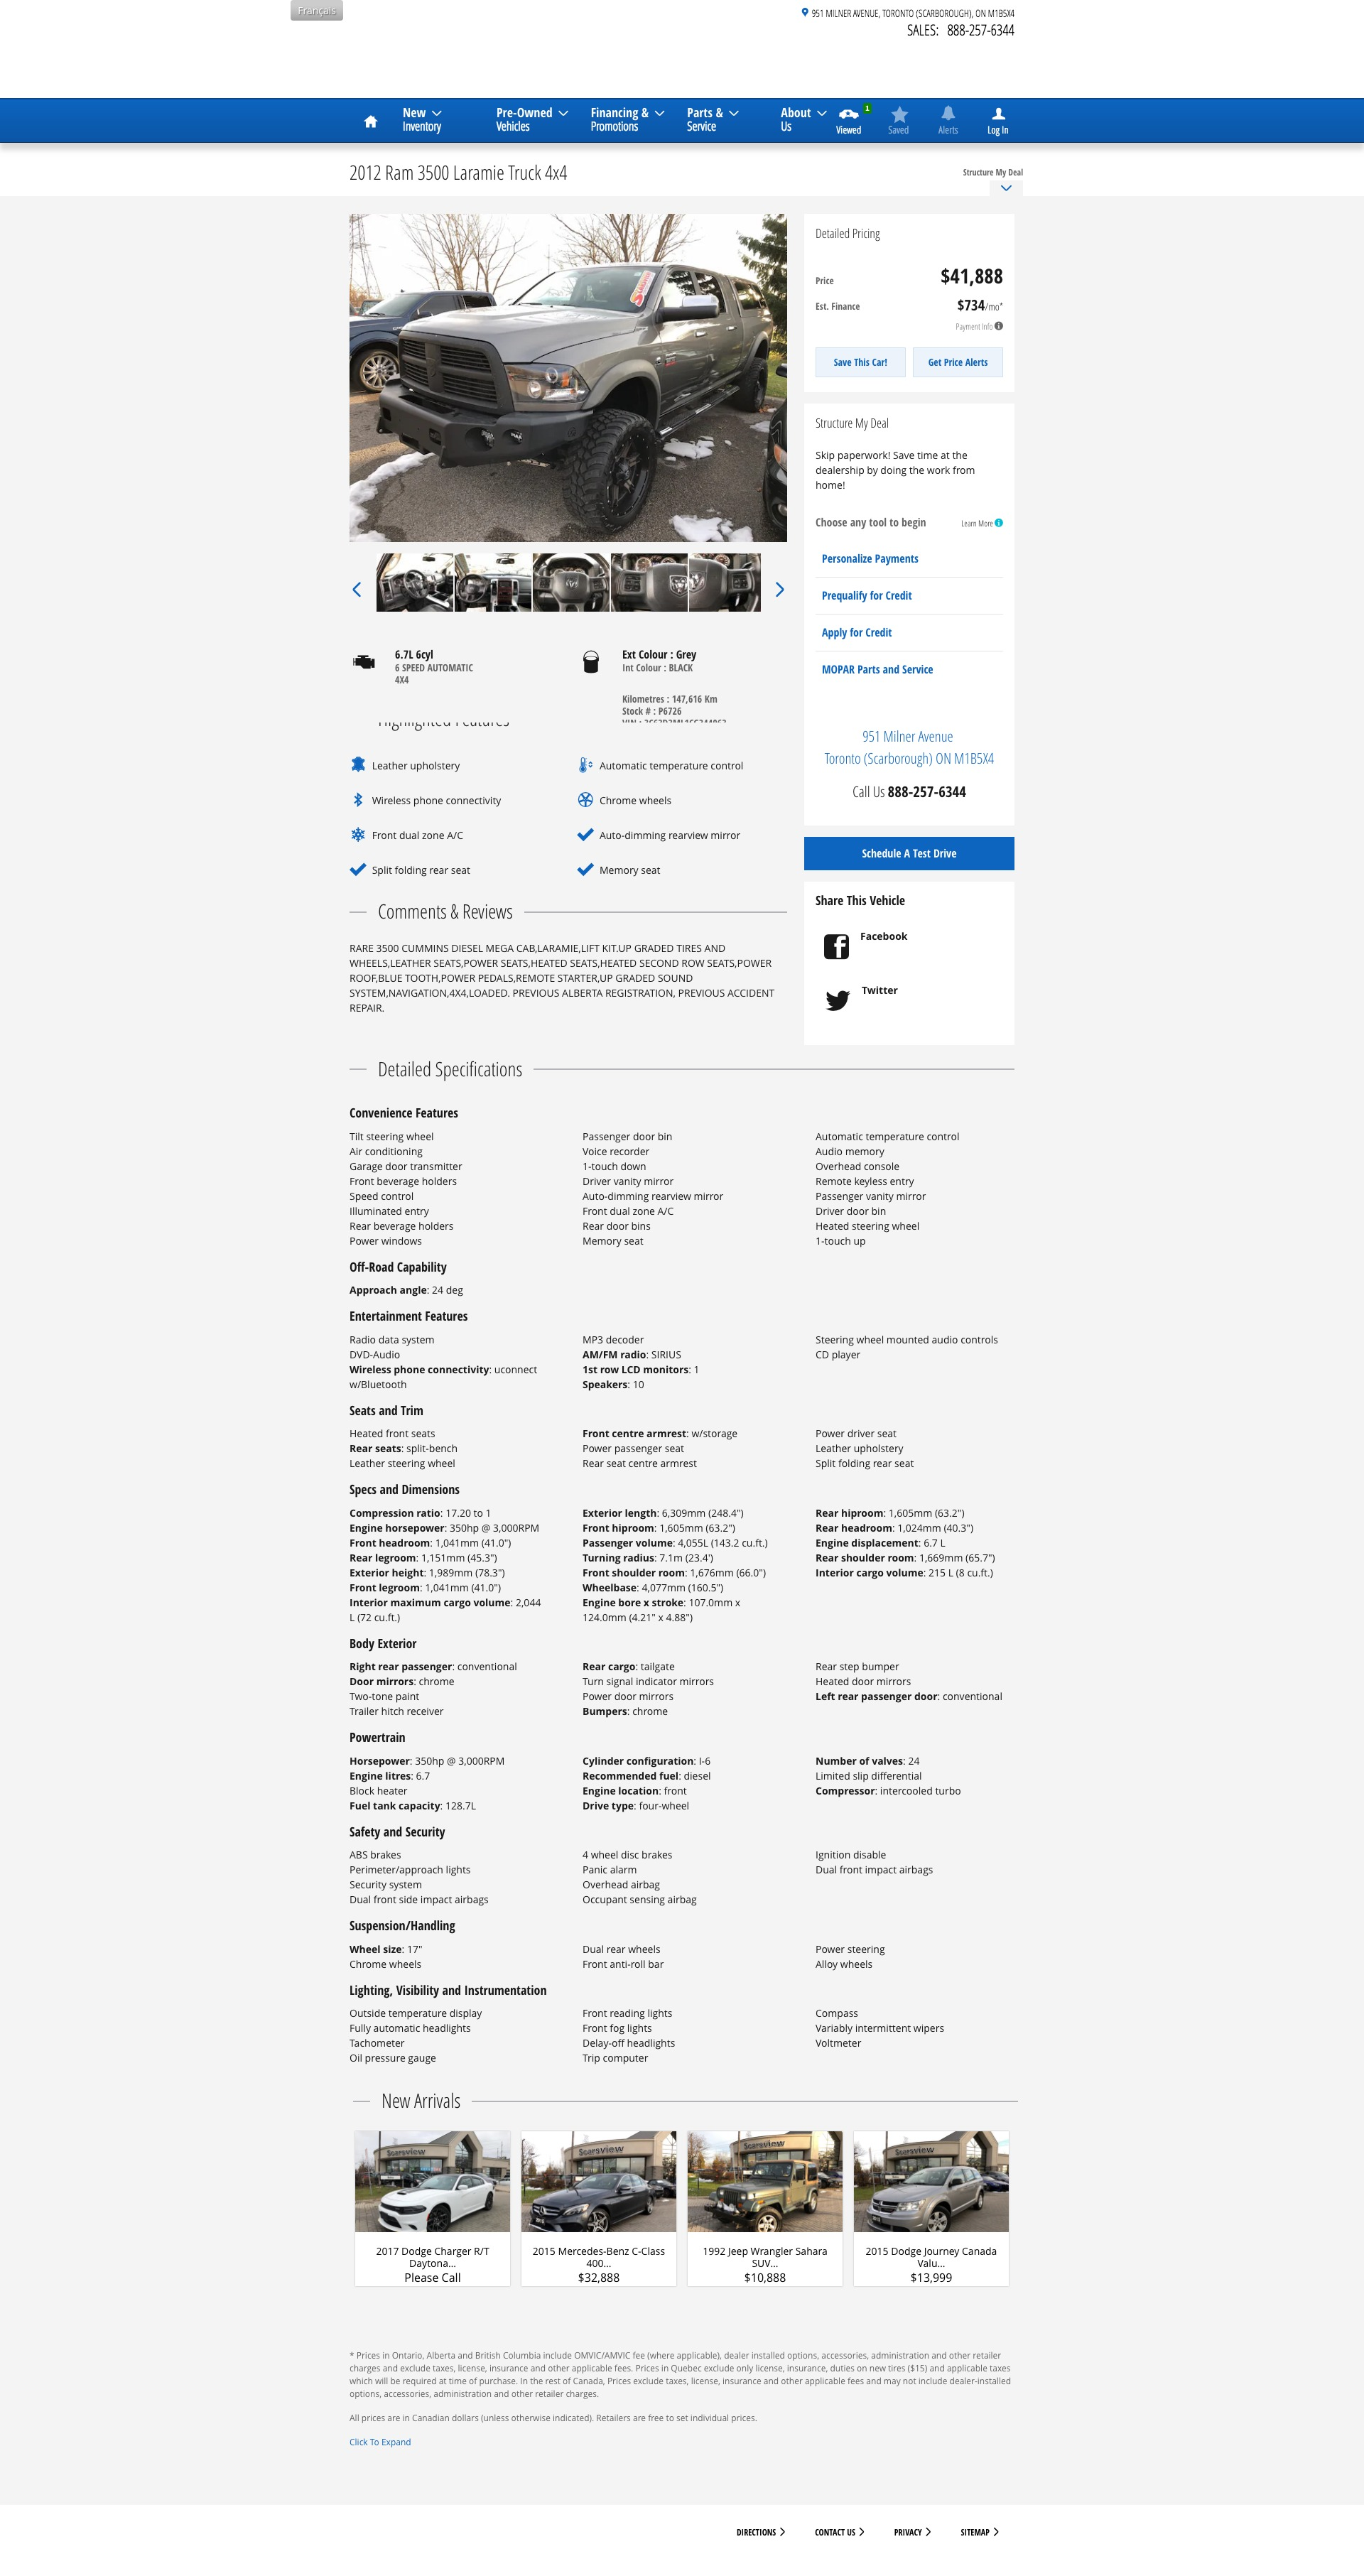car: (777, 583, 785, 598)
